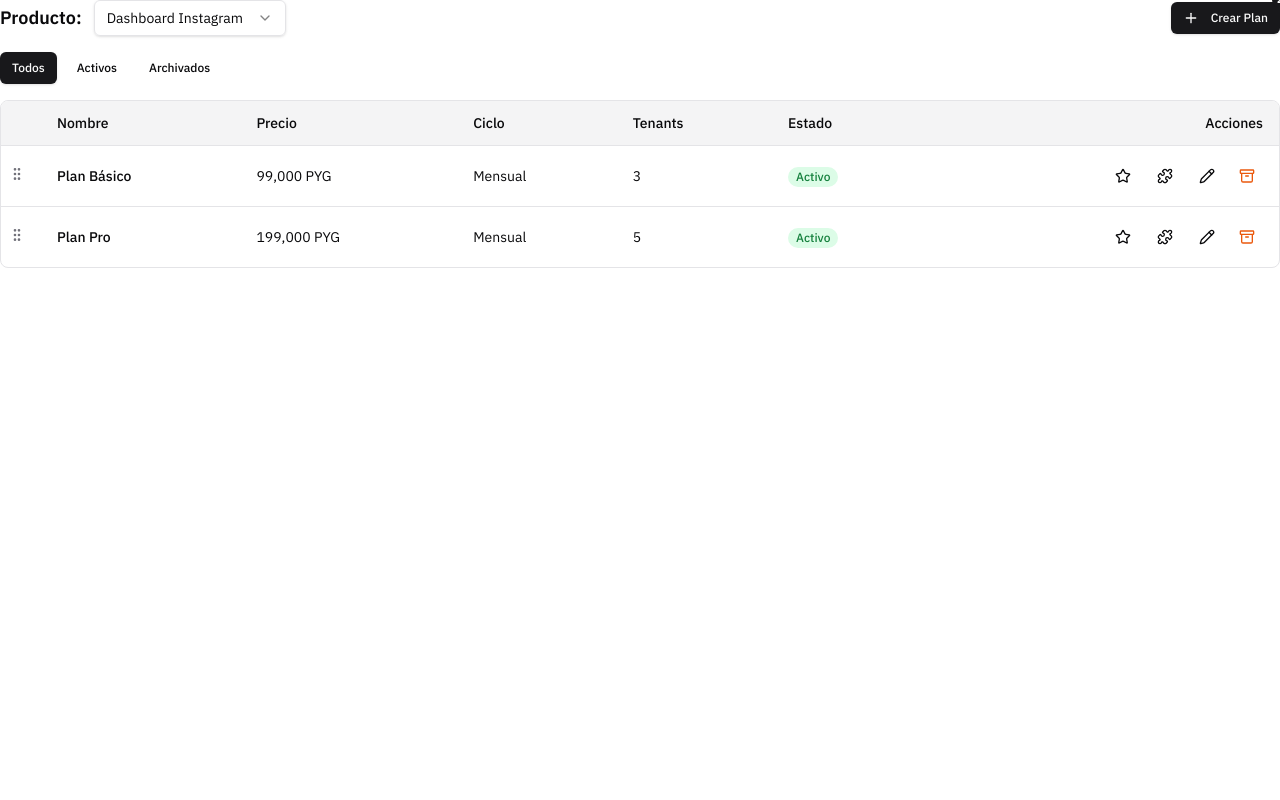
PlansPage — Module Assignment › displays modules in dual-list with current assignments
The image size is (1280, 800).
Click the button named "Módulos de Plan Básico". click: (1165, 176)
box: [1147,158,1183,194]
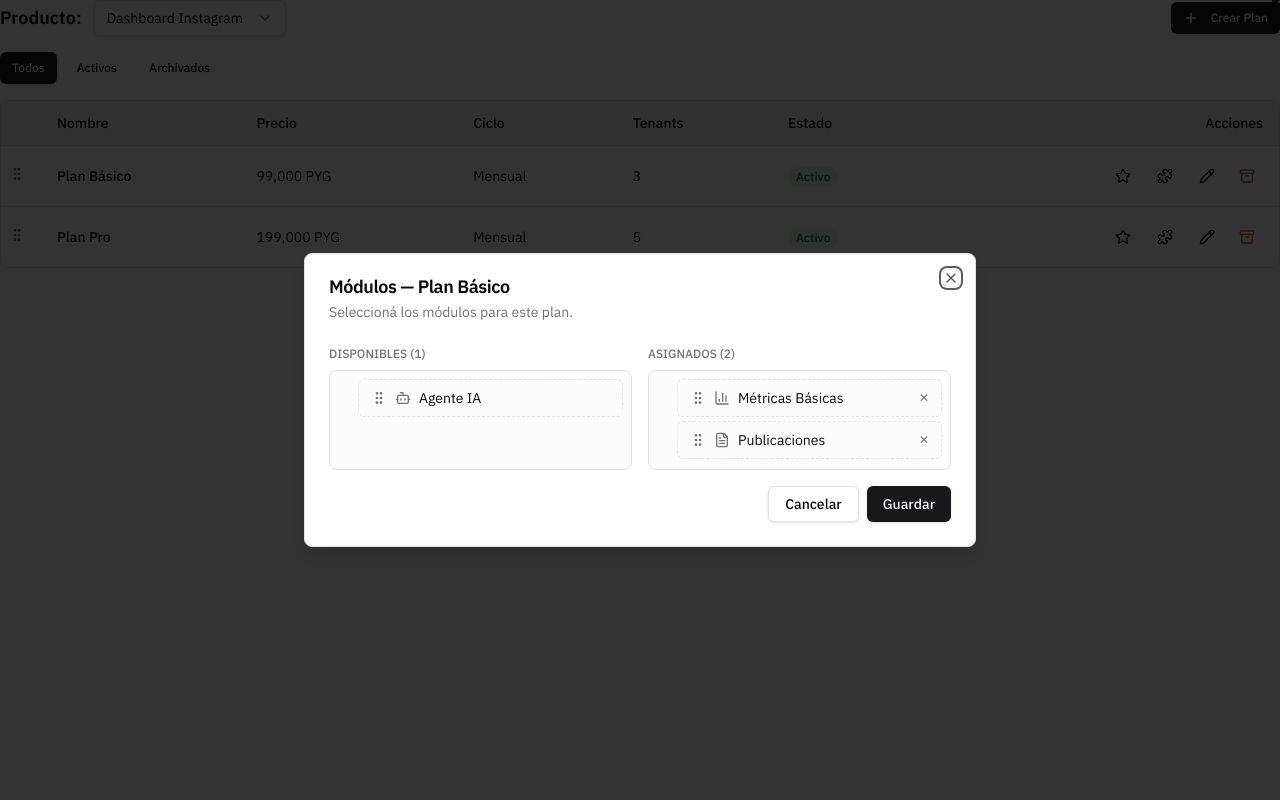
expect the heading "Asignados (2)" is shown: met, box [648,346,735,361]
expect the text "Métricas Básicas" is shown: met, box [738,389,844,407]
expect the text "Publicaciones" is shown: met, box [738,431,825,449]
